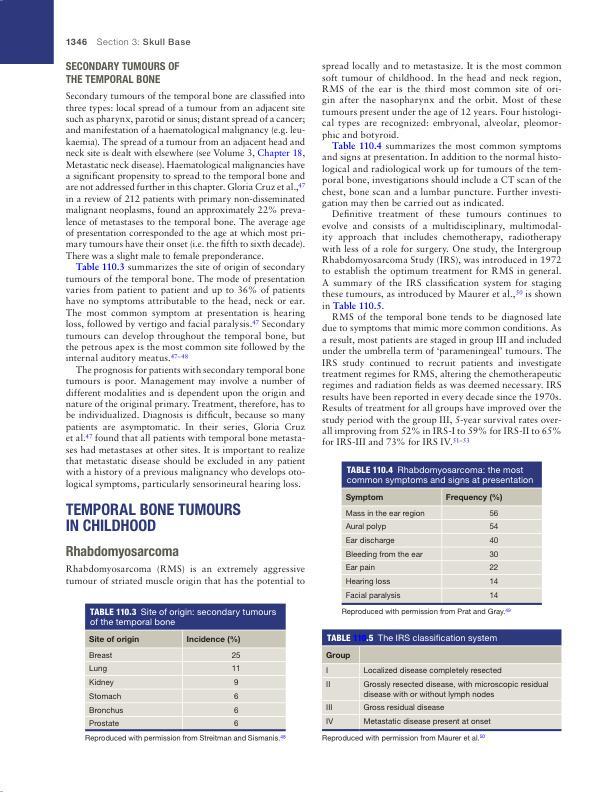caption: (89, 607, 277, 628), (346, 465, 534, 486), (326, 633, 498, 644)
header: (96, 37, 191, 46)
section-heading: (65, 502, 242, 533)
sub-section-heading: (64, 60, 180, 84), (65, 545, 180, 559)
table: (342, 487, 542, 617), (321, 644, 562, 744), (84, 630, 287, 744)
text: (65, 90, 306, 491), (321, 61, 562, 447), (64, 563, 306, 588)
